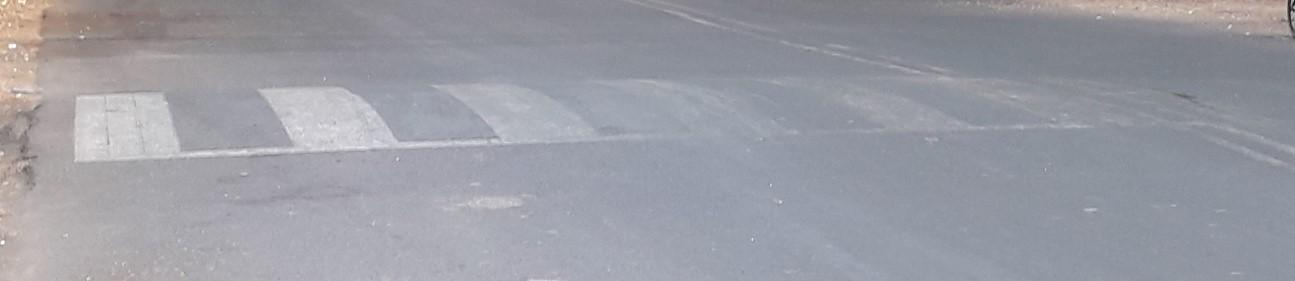speed-bump: (16, 51, 1292, 163)
